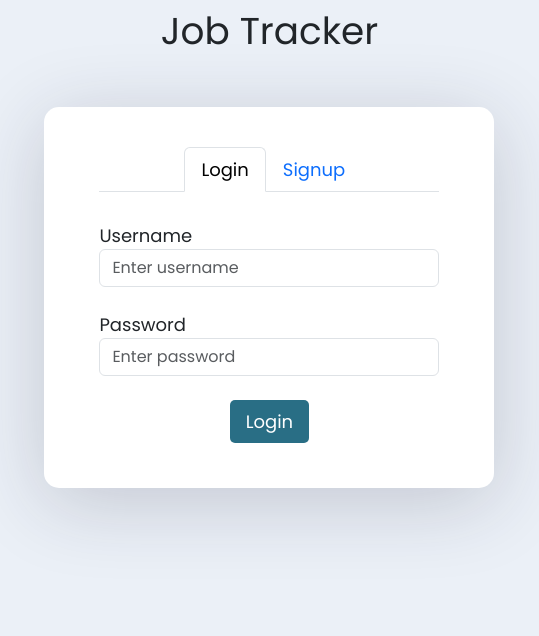
Scenario: Renders App and checks register view
Step 1. Click the tab "Signup" → (314, 170), box [283, 157, 345, 182]
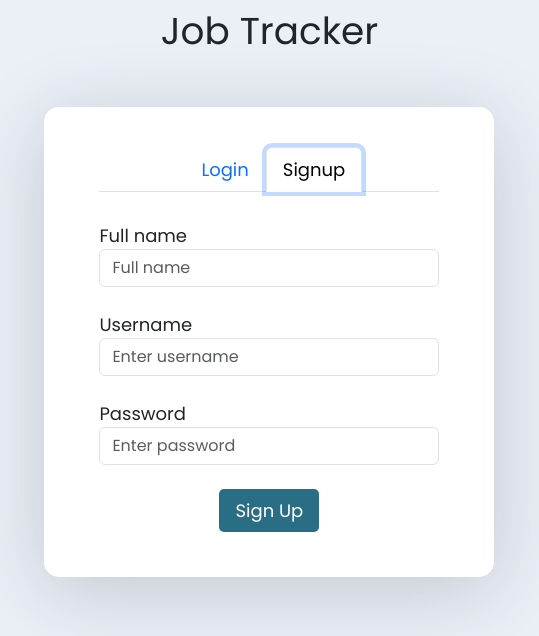
Check: the field with test id "signup-name" is shown, box [99, 249, 439, 287]
Check: the field with test id "signup-username" is shown, box [99, 338, 439, 376]
Check: the password field with test id "signup-password" is shown, box [99, 427, 439, 465]
